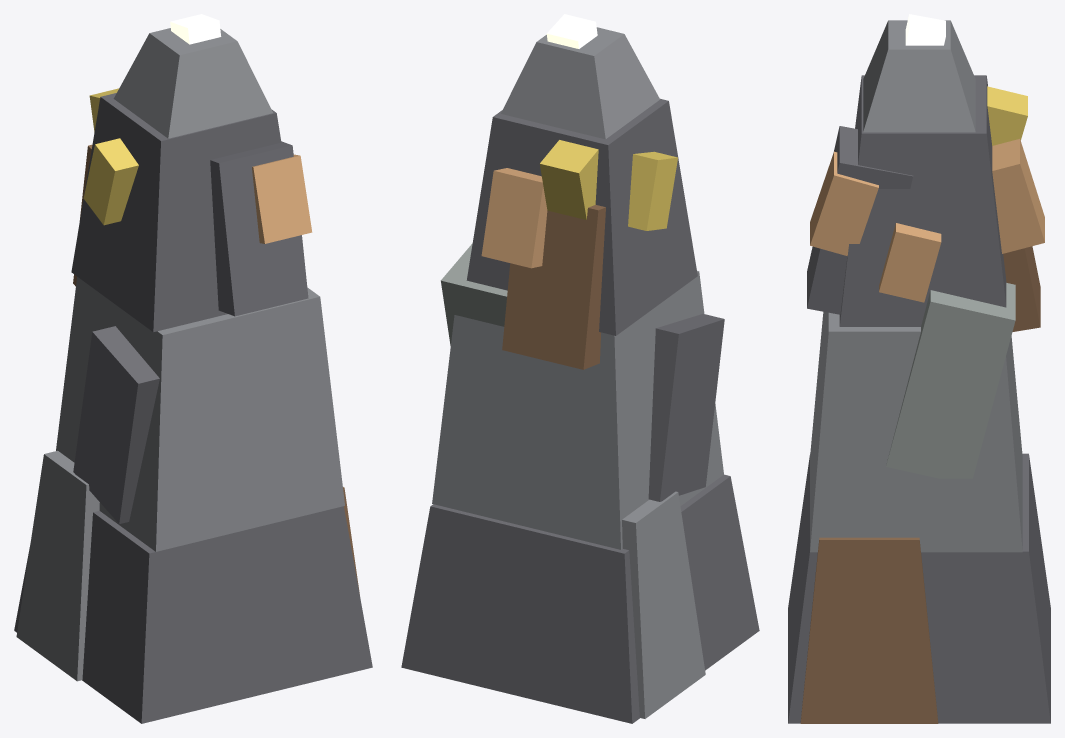
File: mineable_rock.glb
The picture shows the model from 3 angles, left to right: view 1: azimuth 30°, elevation 25°; view 2: azimuth 150°, elevation 25°; view 3: azimuth 270°, elevation 25°; orthographic projection. The views are drawn at different scales.
Visible parts, largest first — view 1: MineableRock; view 2: MineableRock; view 3: MineableRock.
Boxes of the visible parts, box(x1,y1,x2,y2) form: MineableRock: box(14, 14, 372, 723); MineableRock: box(401, 14, 759, 723); MineableRock: box(788, 14, 1050, 723).
Size of the model in its own units: 1.82 by 4.56 by 1.68.
